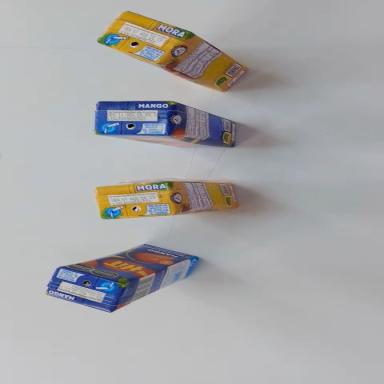HIT-MANGO: (41, 232, 206, 327), (93, 97, 238, 150)
HIT-MORA: (95, 5, 254, 97), (95, 177, 239, 220)
cara_F: (59, 232, 198, 298), (98, 123, 233, 158)
